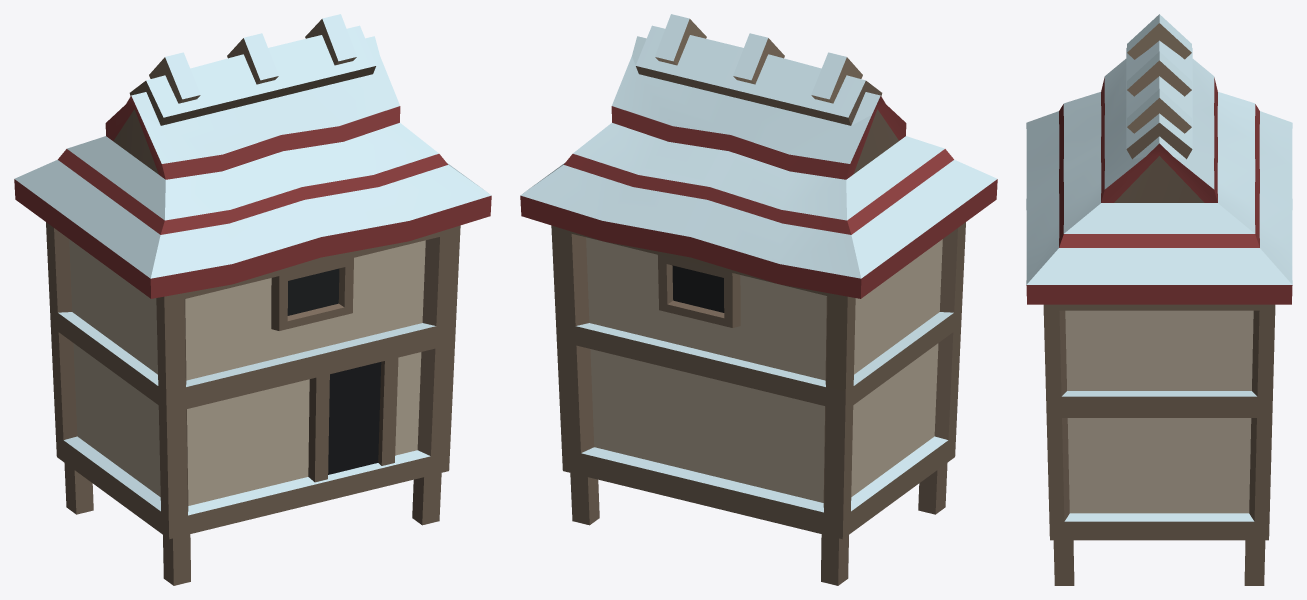
Rendered from SM_Bld_Samurai_House_02_Snow.fbx.
3 renders of one model, left to right at view 1: azimuth 30°, elevation 25°; view 2: azimuth 150°, elevation 25°; view 3: azimuth 270°, elevation 25°, orthographic. The views are drawn at different scales.
Parts seen in each view (by area): view 1: SM_Bld_Samurai_House_02_Snow; view 2: SM_Bld_Samurai_House_02_Snow; view 3: SM_Bld_Samurai_House_02_Snow.
Boxes of the visible parts, left/top/right/bottom form: SM_Bld_Samurai_House_02_Snow: left=14, top=14, right=491, bottom=585; SM_Bld_Samurai_House_02_Snow: left=520, top=14, right=997, bottom=585; SM_Bld_Samurai_House_02_Snow: left=1026, top=14, right=1292, bottom=585.
Size of the model in its own units: 109 by 146 by 75.51.
Materials: 1 (1 with a texture image).
